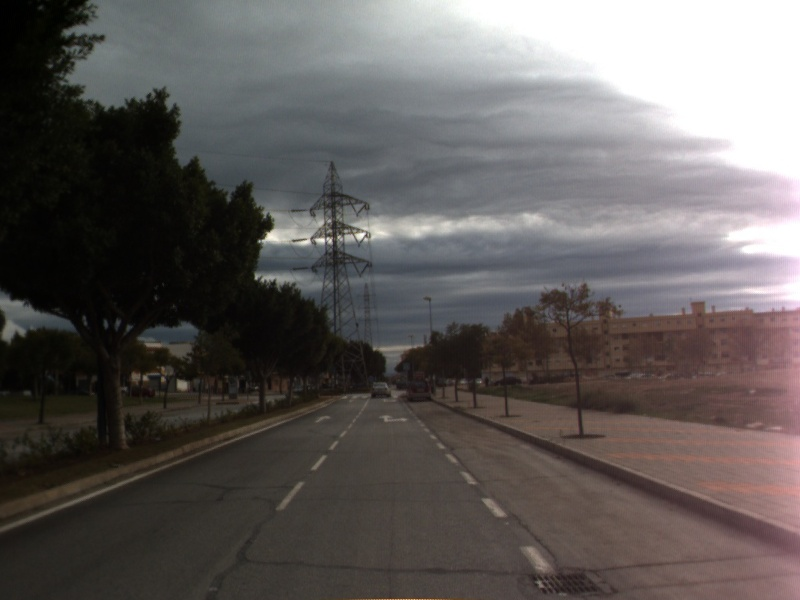STRAIGHT: (312, 413, 334, 425)
STRAIGHT_RIGHT: (377, 412, 411, 424)
